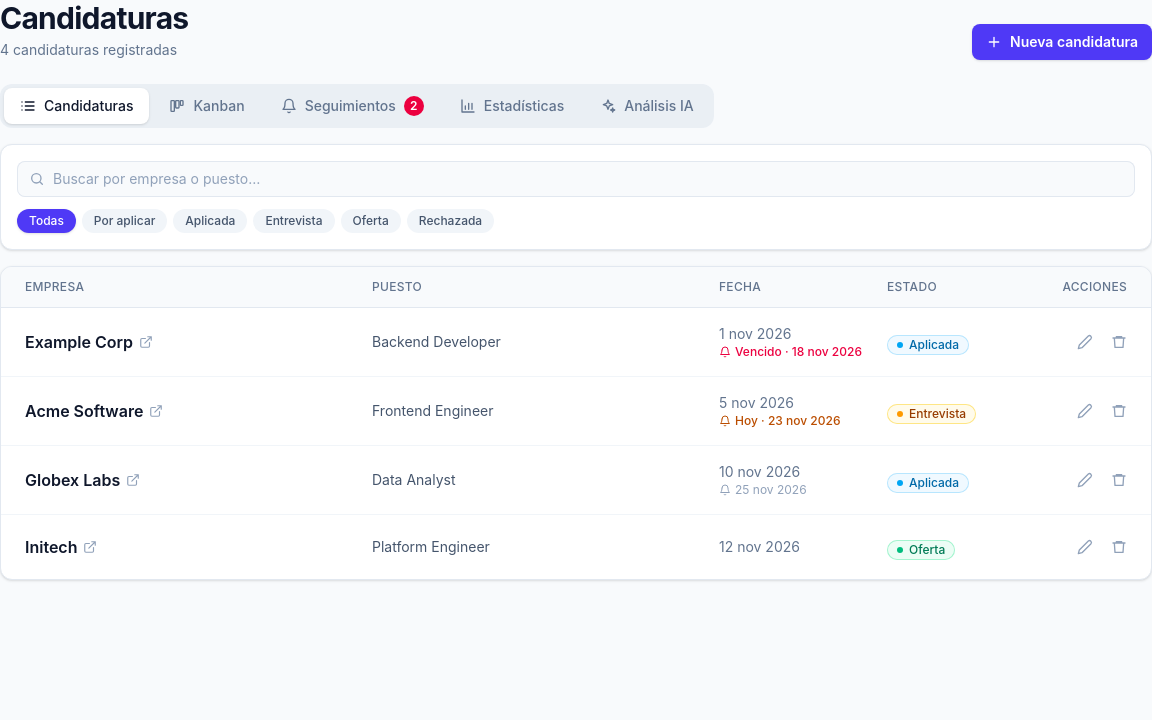
ApplicationsPage follow-ups › removes the follow-up date
Expected: the text "2" is shown, [404,96,424,116]
Click the tab "Seguimientos 2" at (352, 106), box [265,88,440,124]
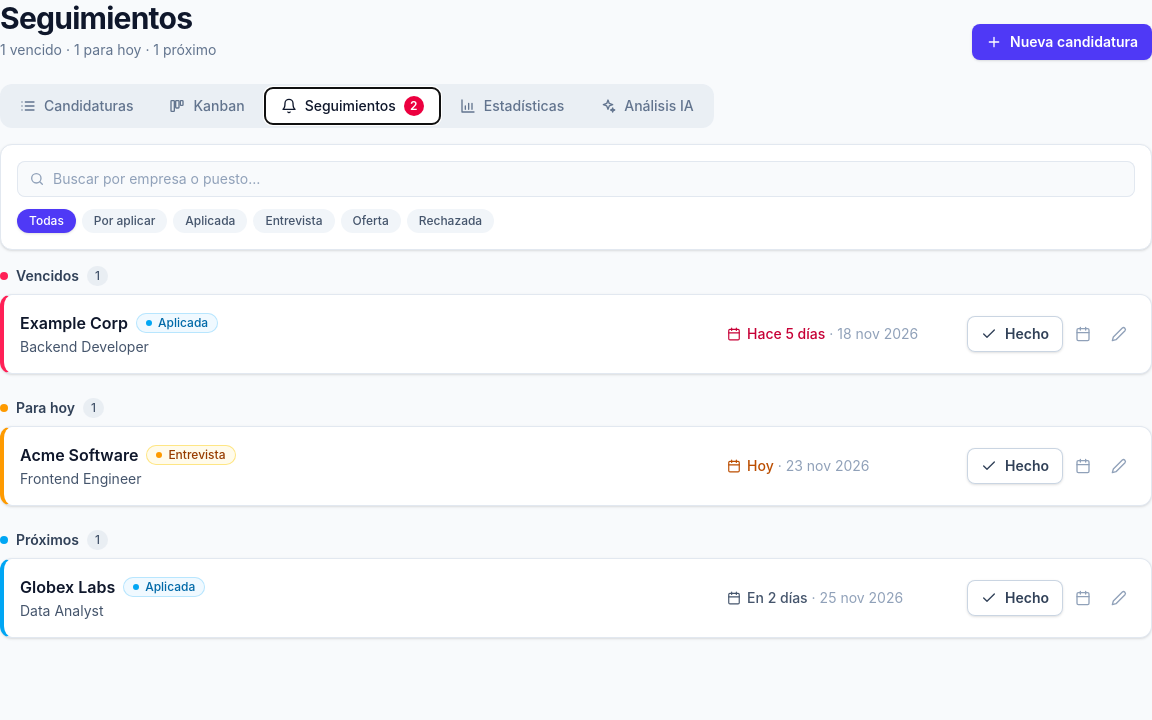
Expected: the element "Vencidos" is shown, [0,266,1151,374]
Click the button named "Cambiar fecha de seguimiento de Frontend Engineer" at (1083, 466), box [1067,450,1099,482]
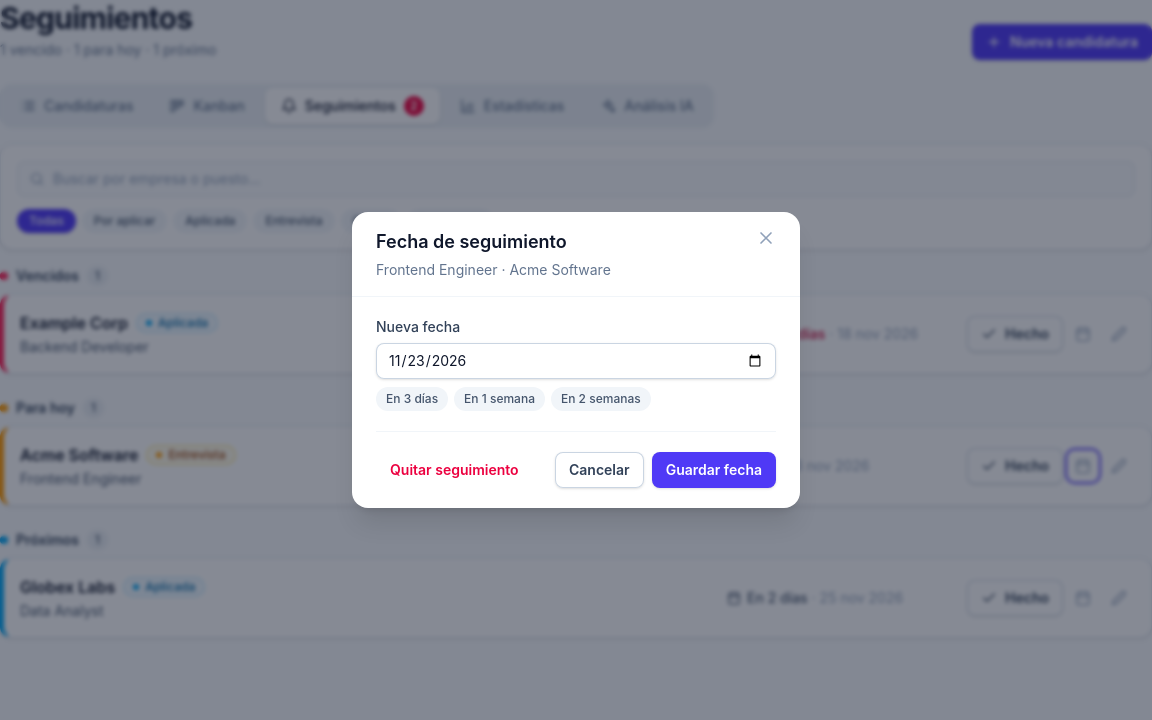
Click the button "Quitar seguimiento" at (454, 470), box [376,452,533,488]
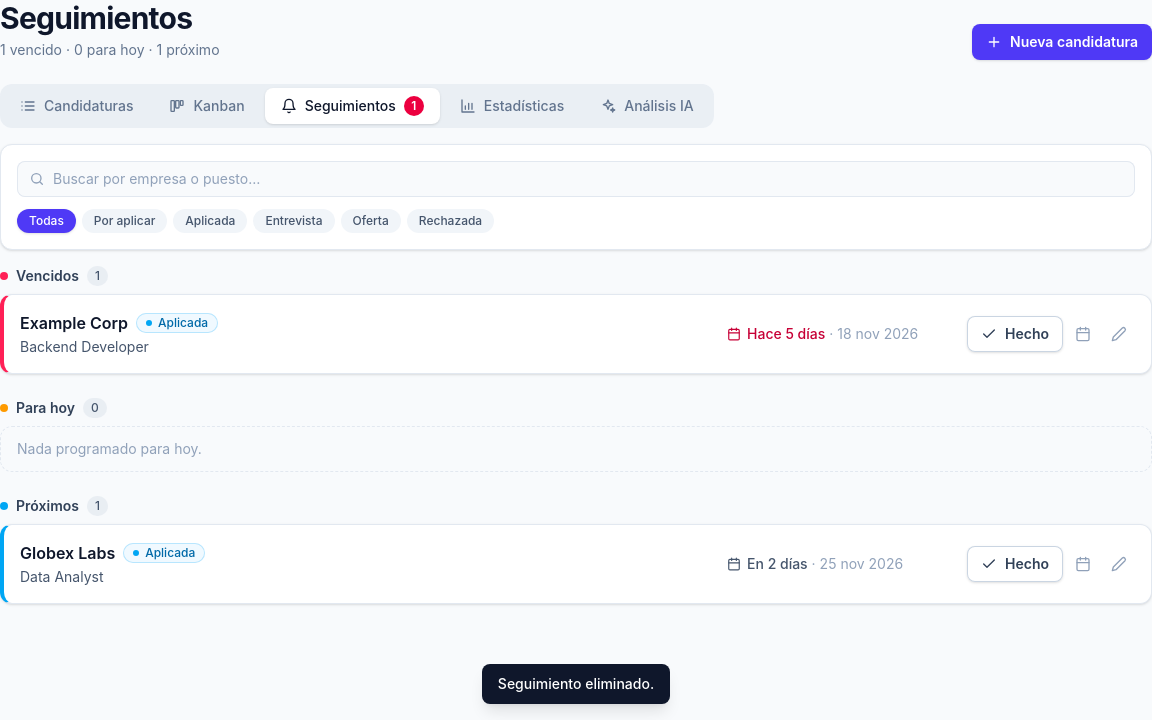
Expected: the text "Nada programado para hoy." is shown, [0,426,1151,472]
Expected: the message reads "Seguimiento eliminado.", [498,675,654,692]
